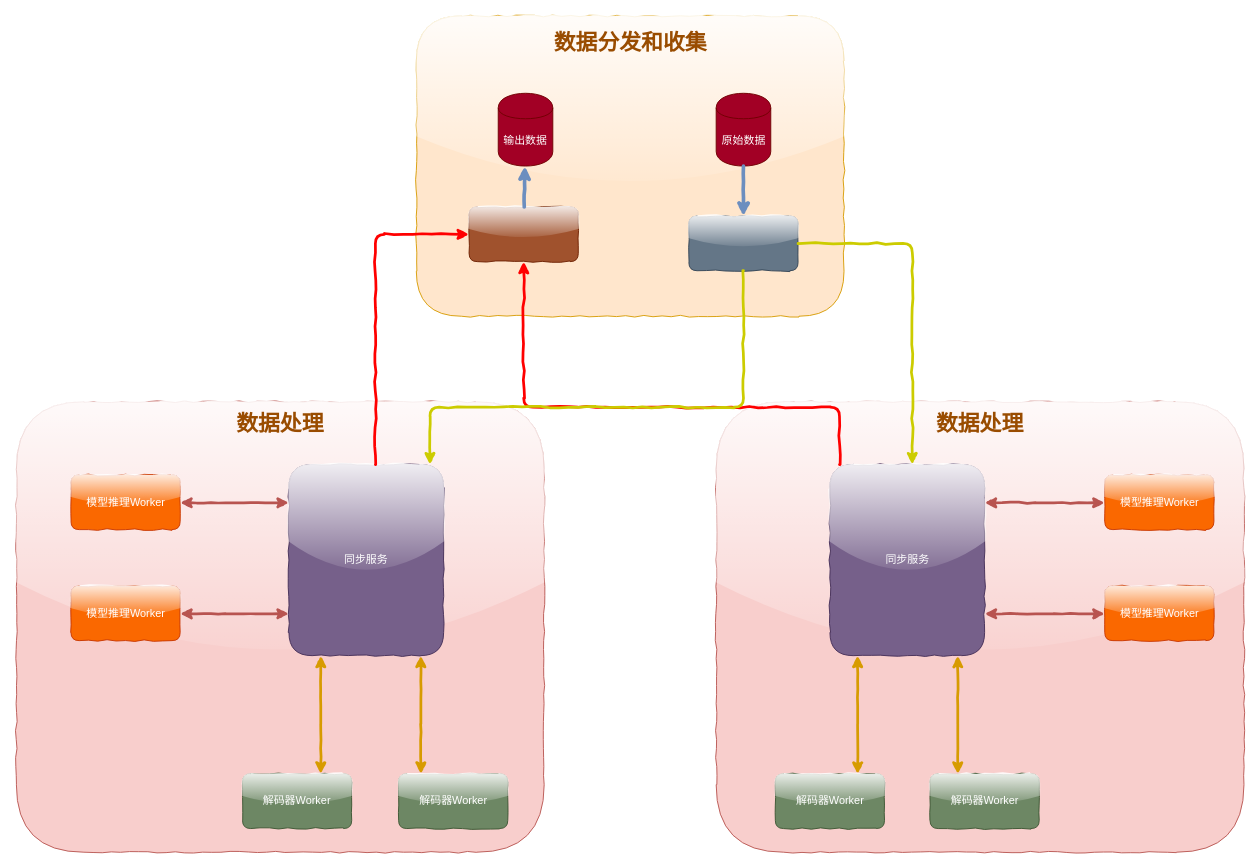
The diagram is 1259 pixels wide and 868 high, and some of its shapes have lost their labels. Each missing label, with the centre of its shape:
数据收集服务: point 523,234
数据读取分发服务: point 743,243
